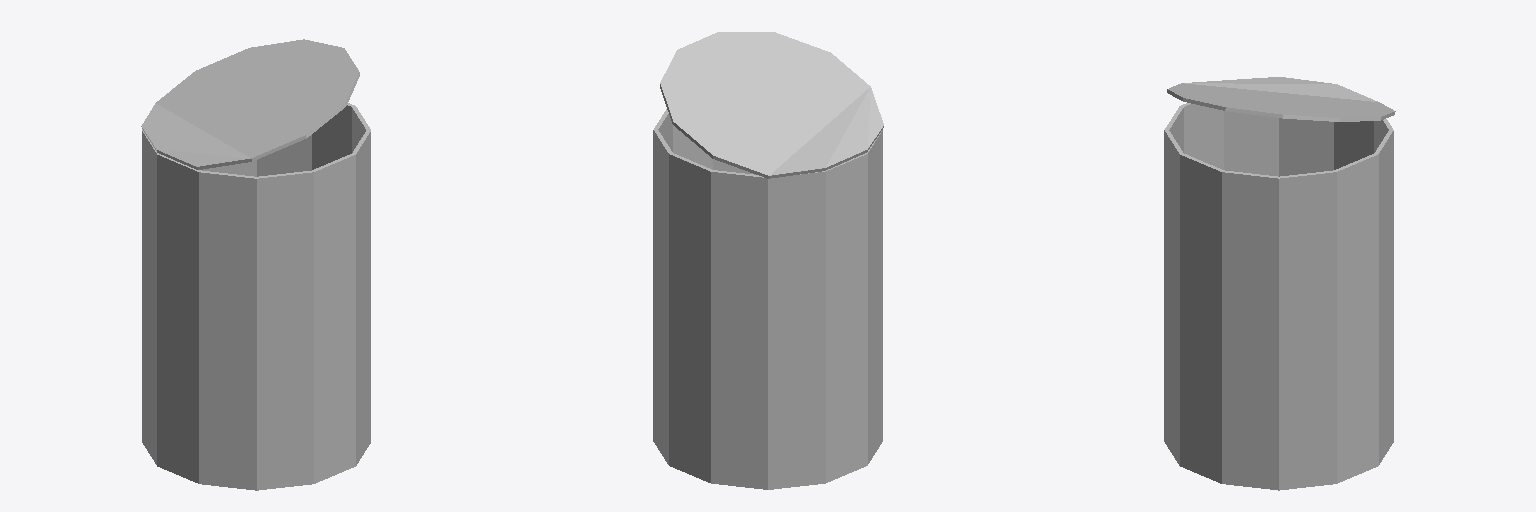
Rendered from Trash _1.obj.
3 renders of one model, left to right at view 1: azimuth 30°, elevation 25°; view 2: azimuth 150°, elevation 25°; view 3: azimuth 270°, elevation 25°, orthographic.
Visible parts, largest first — view 1: Cylinder; view 2: Cylinder; view 3: Cylinder.
Part boxes in pixels (x1,y1,x2,y2): Cylinder: (141,39,370,490); Cylinder: (653,32,883,489); Cylinder: (1164,77,1395,490).
Size of the model in its own units: 0.2578 by 0.4601 by 0.2591.